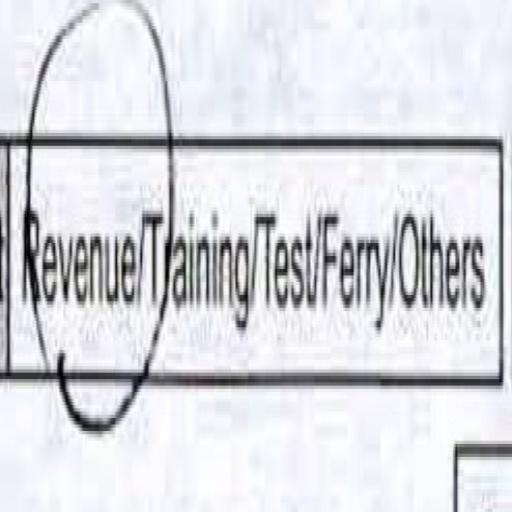check: (13, 13, 133, 444)
